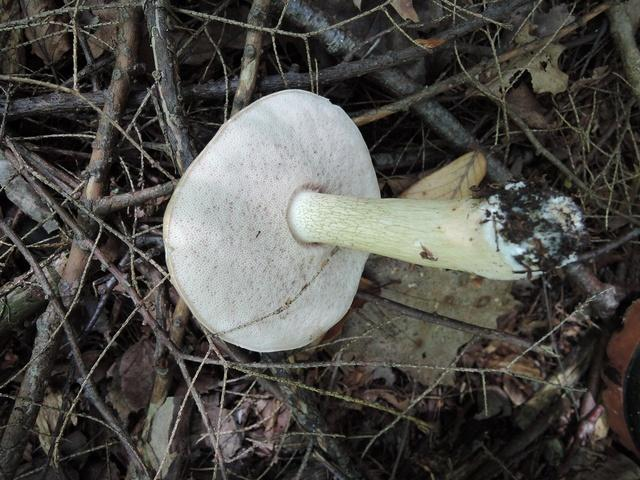poisonous_mushroom: (160, 87, 587, 353)
